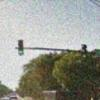traffic lights: (18, 40, 23, 56)
